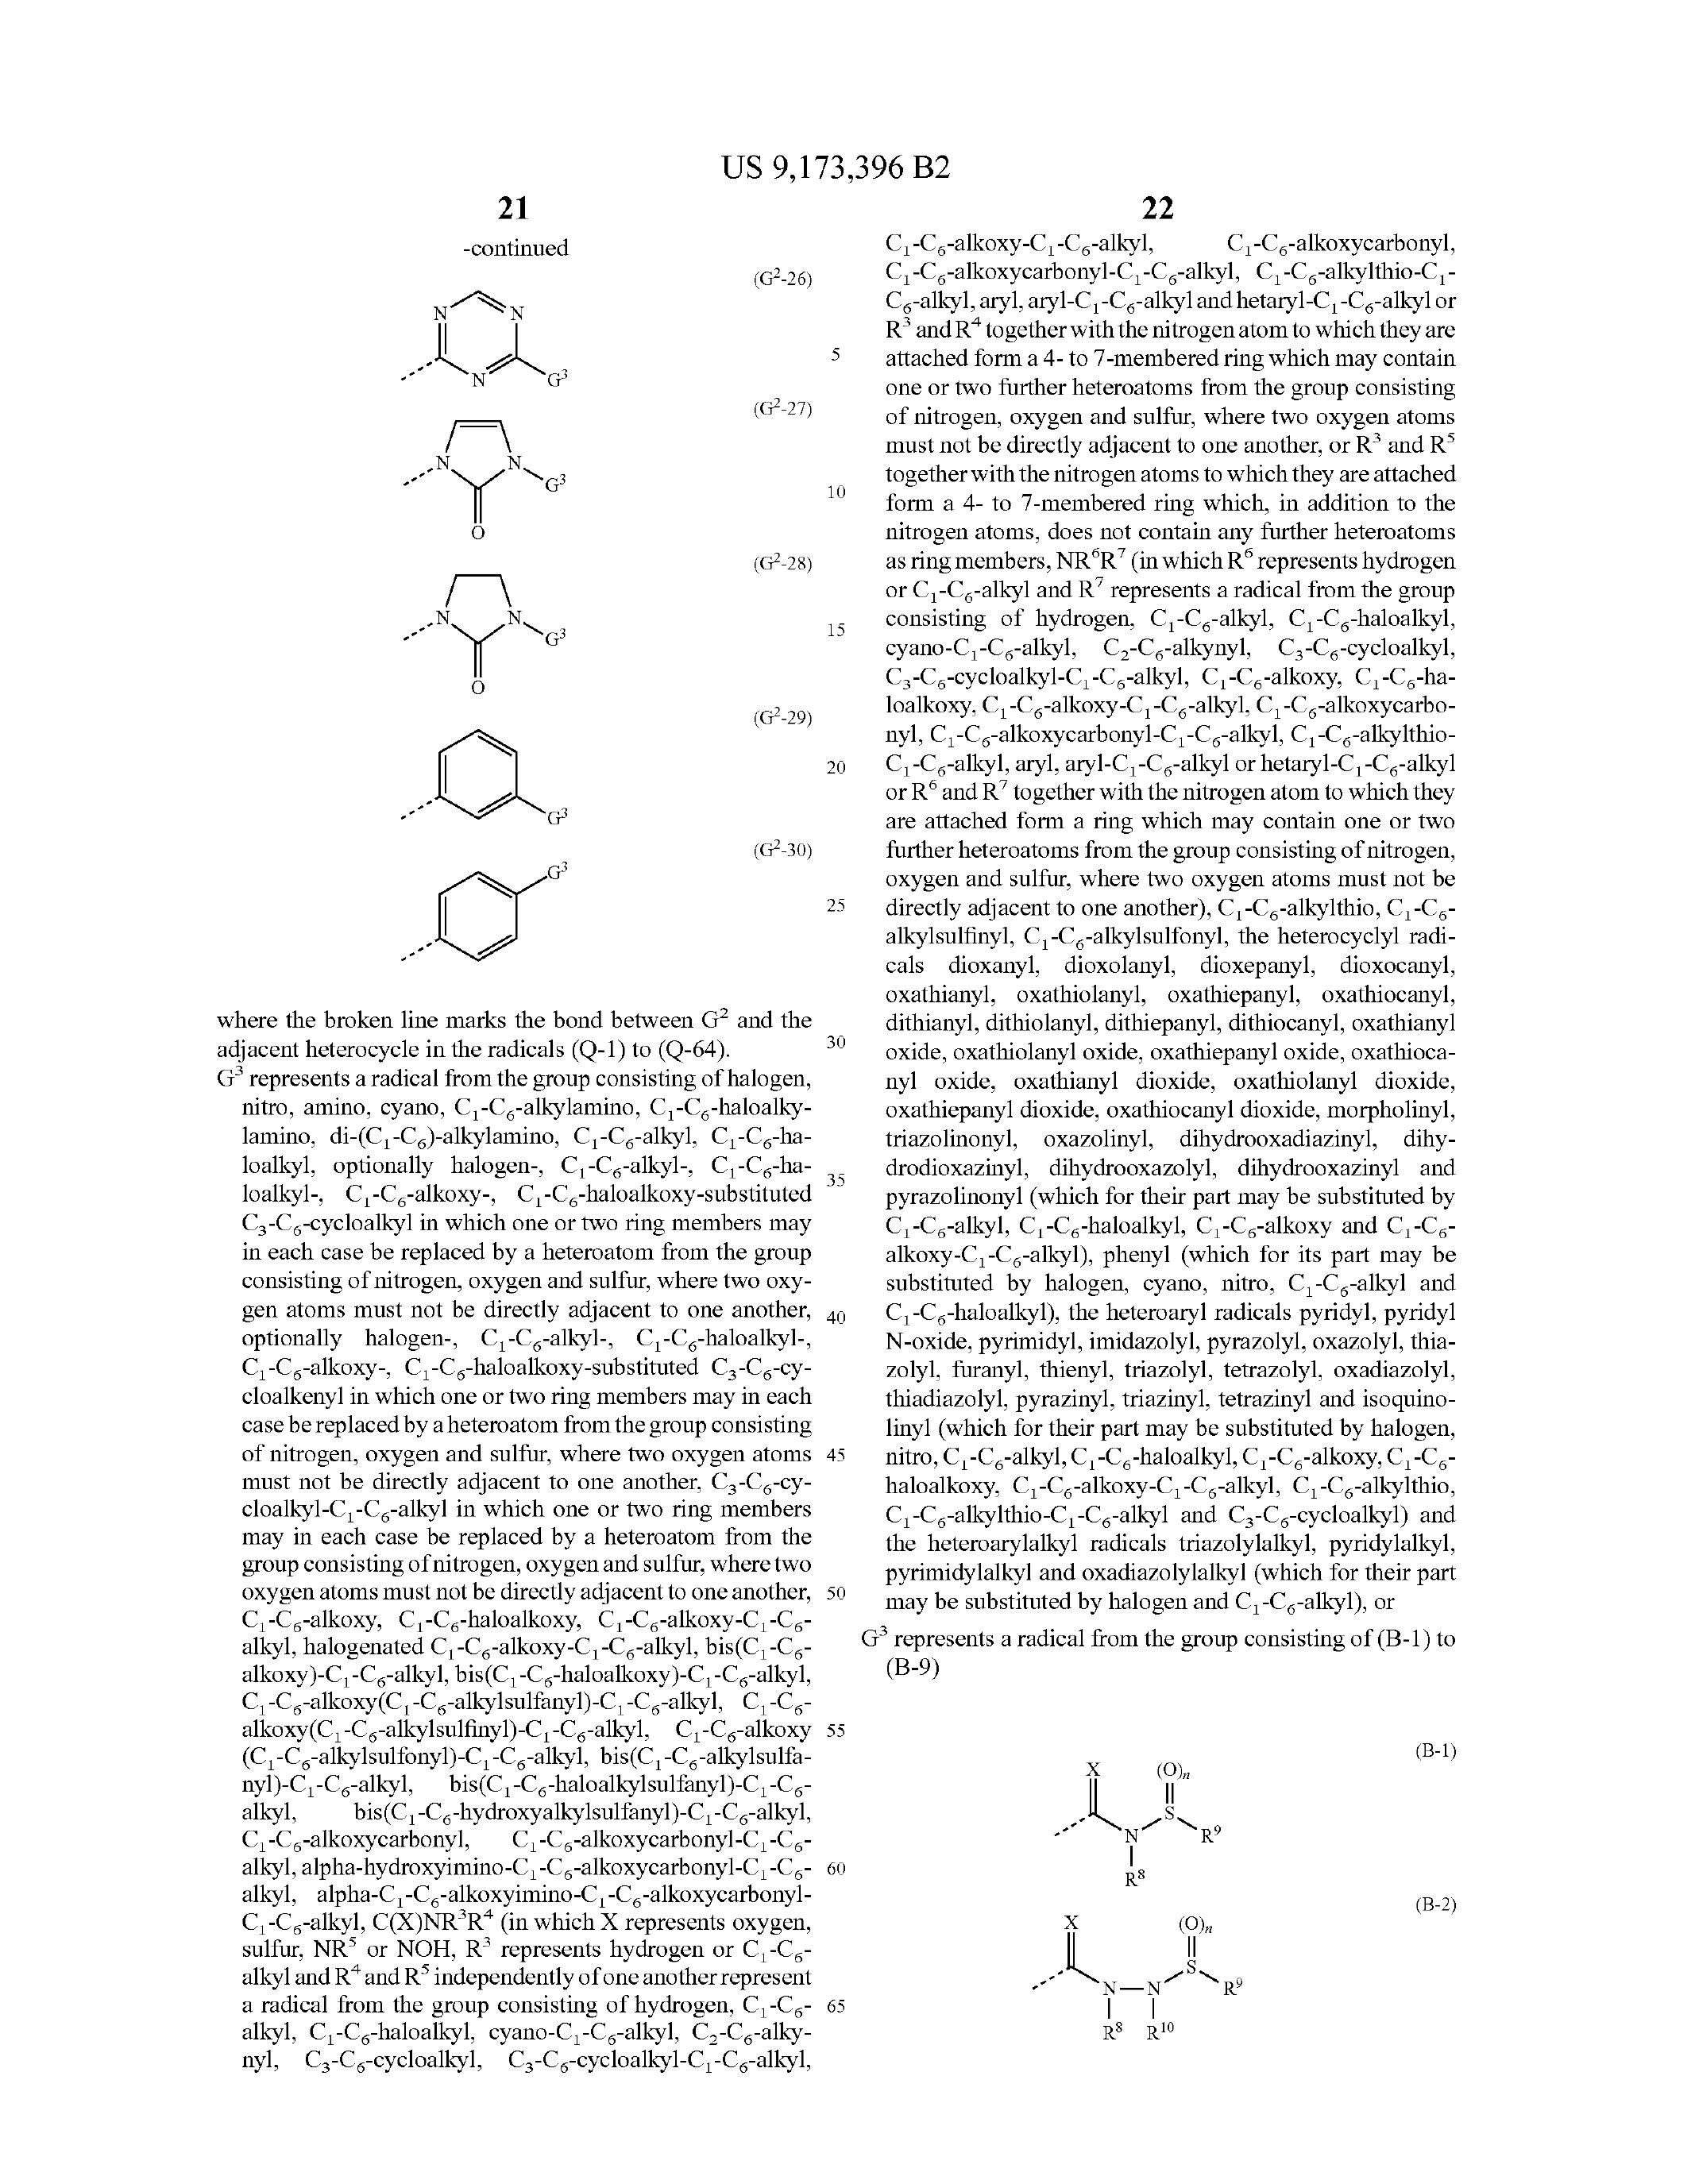intermediates: (954, 1730, 1284, 2063)
